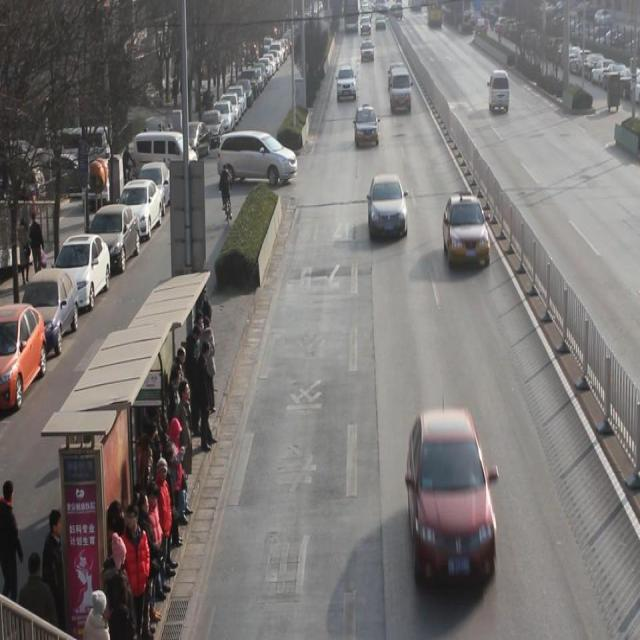car: (407, 408, 499, 590), (443, 197, 490, 269), (368, 174, 408, 241), (355, 105, 380, 147), (336, 64, 357, 102), (388, 62, 404, 94)
truck: (389, 67, 413, 116), (489, 68, 510, 115)
